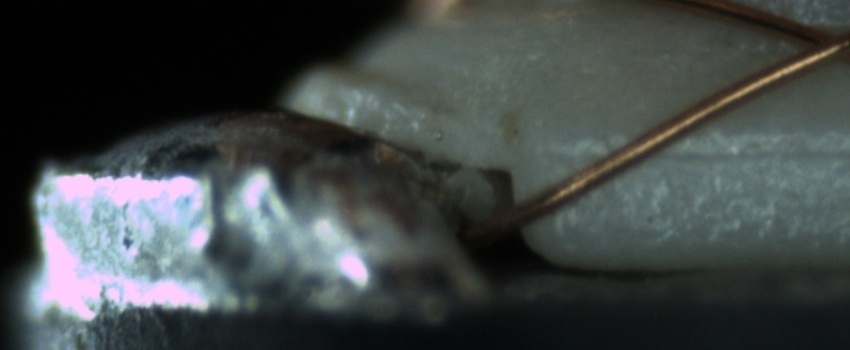CL: (774, 14, 850, 76)
DL: (552, 118, 849, 182)
